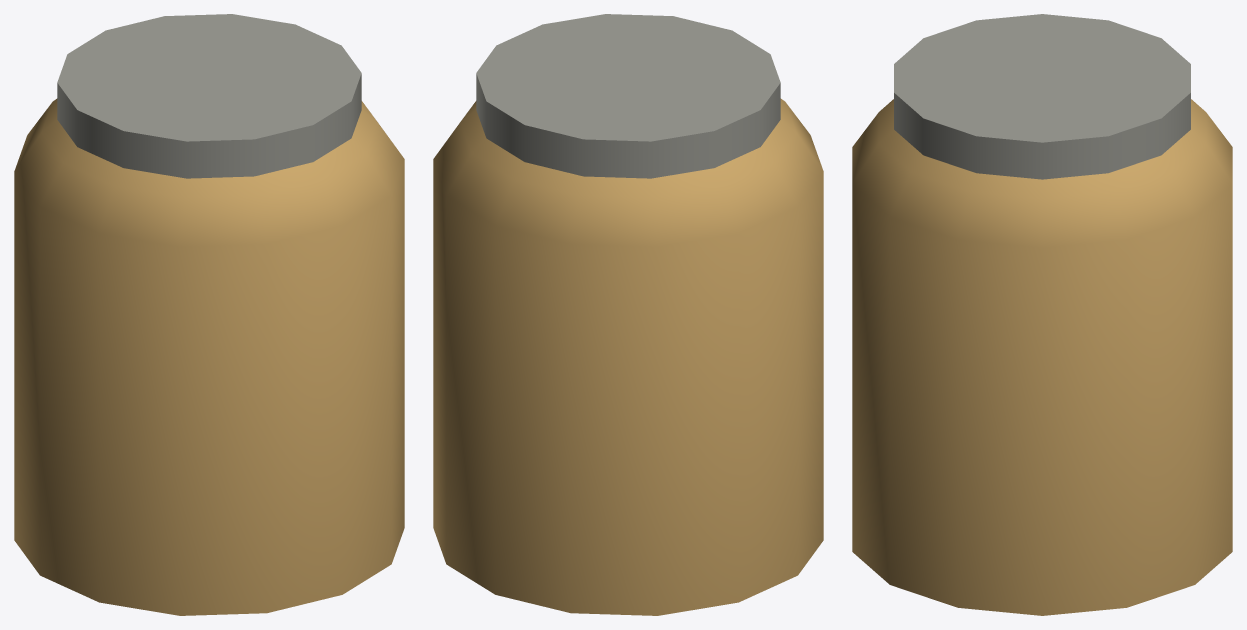
Rendered from tpl_dispensa_vaso_s_farro.glb.
3 renders of one model, left to right at view 1: azimuth 30°, elevation 25°; view 2: azimuth 150°, elevation 25°; view 3: azimuth 270°, elevation 25°, orthographic.
Parts seen in each view (by area): view 1: tpl_dispensa_vaso_s_farro; view 2: tpl_dispensa_vaso_s_farro; view 3: tpl_dispensa_vaso_s_farro.
Part boxes in pixels (x1,y1,x2,y2): tpl_dispensa_vaso_s_farro: (14, 14, 404, 615); tpl_dispensa_vaso_s_farro: (433, 14, 823, 615); tpl_dispensa_vaso_s_farro: (852, 14, 1232, 615).
Bounding box in the file's own units: 0.09 × 0.1158 × 0.0877.
